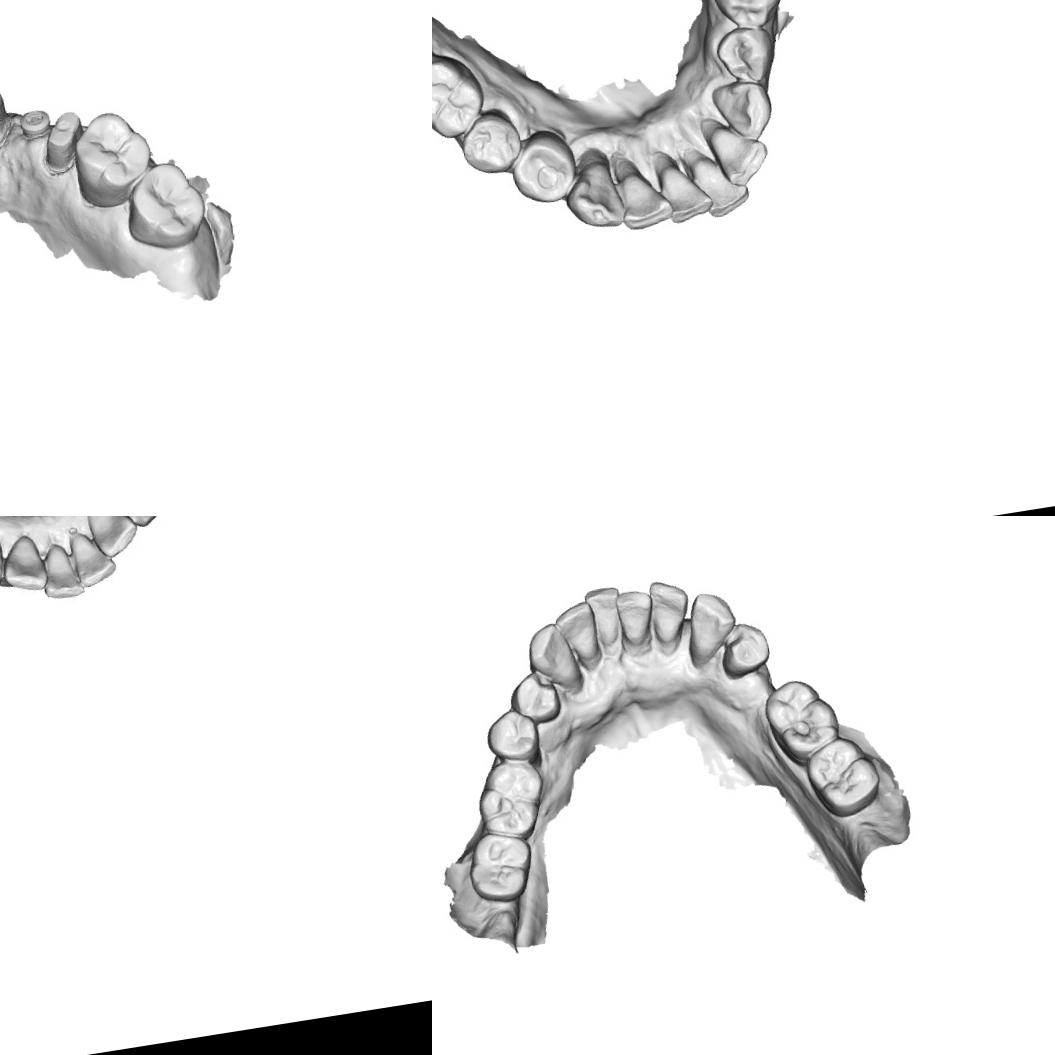canine: (560, 156, 628, 235), (522, 618, 585, 700), (679, 587, 742, 668), (706, 73, 776, 144), (108, 516, 169, 531)
crown: (35, 107, 90, 178), (0, 79, 15, 152)
implant: (17, 106, 54, 143)
incisor: (689, 144, 753, 221), (712, 114, 776, 191), (656, 152, 710, 227), (646, 575, 697, 654), (616, 167, 676, 232), (553, 598, 603, 672), (68, 525, 122, 590), (583, 584, 629, 660), (613, 586, 661, 657), (35, 540, 86, 602), (0, 532, 45, 595), (84, 516, 139, 561)
molar: (66, 104, 160, 212), (118, 156, 212, 257), (759, 674, 844, 771), (800, 731, 887, 824), (470, 756, 552, 844), (463, 825, 539, 907), (432, 52, 489, 147)
premolar: (506, 128, 580, 209), (456, 108, 528, 179), (711, 22, 779, 90), (482, 705, 544, 767), (716, 618, 774, 681), (506, 666, 564, 728), (709, 0, 784, 33)
